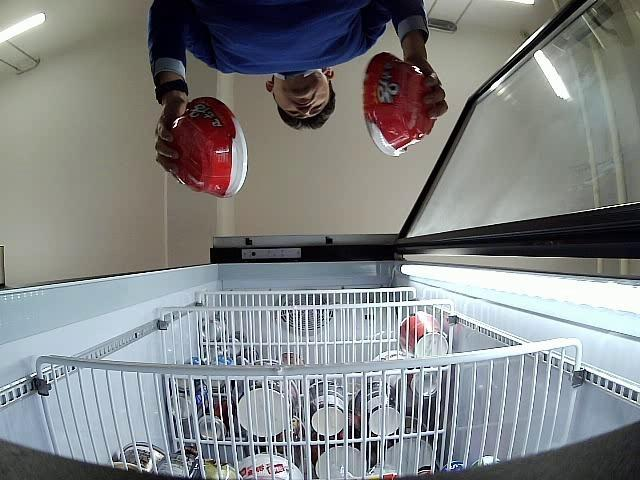10_wangTtukkeong: (170, 97, 248, 198), (363, 52, 437, 156)
